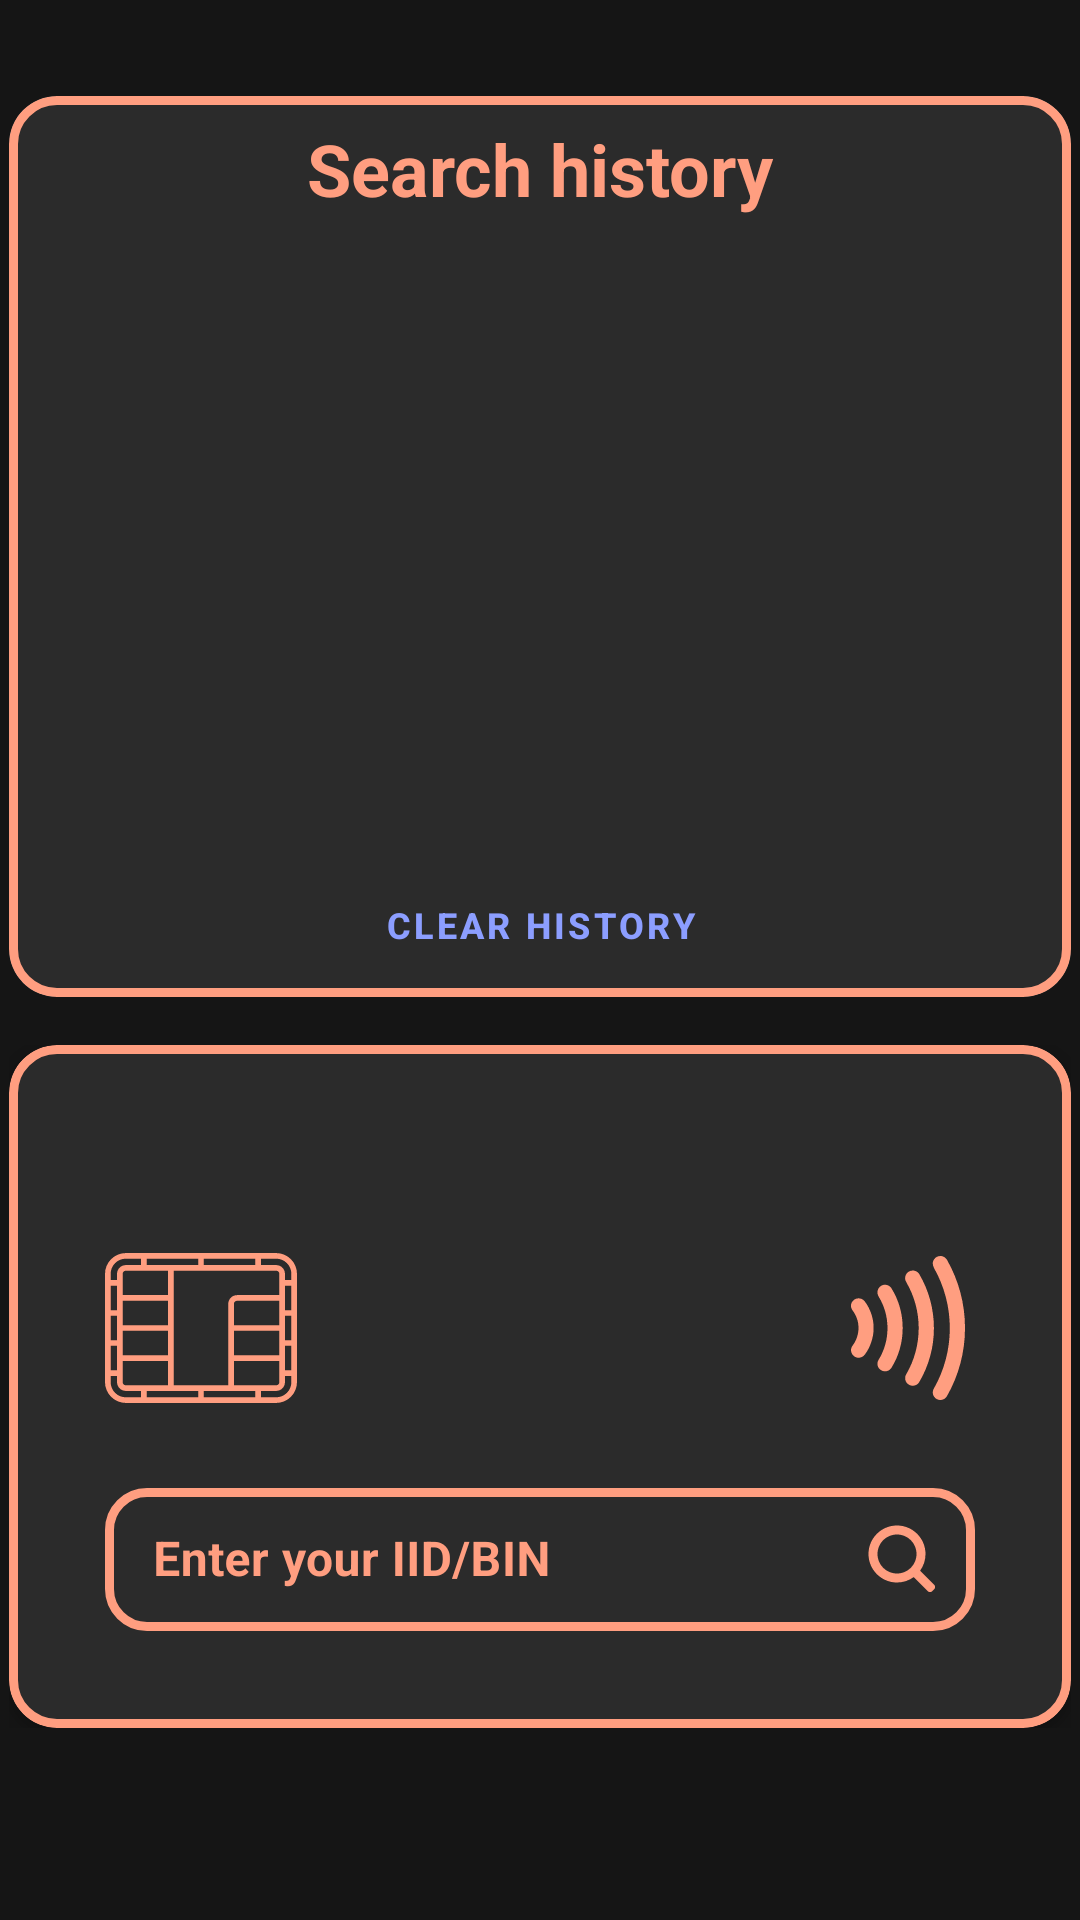

Named icons in this screenshot (1080 × 1920) and their centers, point (x, y):
chip: point (201, 1328)
contactless indicator: point (908, 1328)
